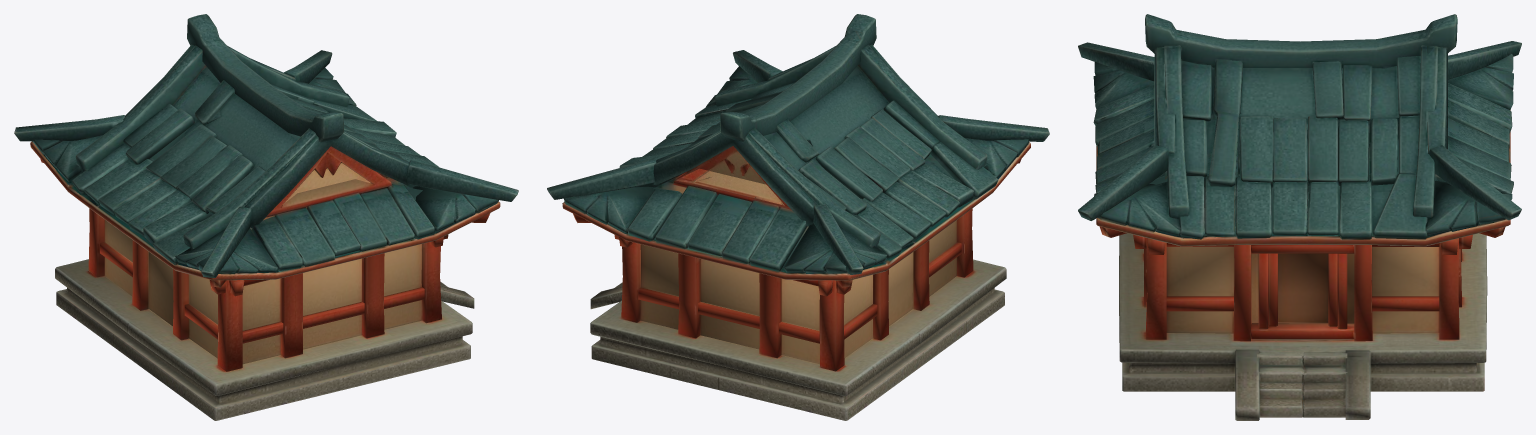
Rendered from tripo_convert_e33c6912-5a7f-4711-8989-9049c70ae8e7.fbx.
3 views of the same model, side by side, from view 1: azimuth 30°, elevation 25°; view 2: azimuth 150°, elevation 25°; view 3: azimuth 270°, elevation 25° (orthographic). The views are drawn at different scales.
Parts seen in each view (by area): view 1: tripo_node_e33c6912; view 2: tripo_node_e33c6912; view 3: tripo_node_e33c6912.
Part boxes in pixels (box(x1,y1,x2,y2)): tripo_node_e33c6912: box(14, 14, 518, 420); tripo_node_e33c6912: box(547, 14, 1049, 420); tripo_node_e33c6912: box(1078, 14, 1521, 420).
Bounding box in the file's own units: 0.998 × 0.752 × 0.998.
1 material, 1 textured.
